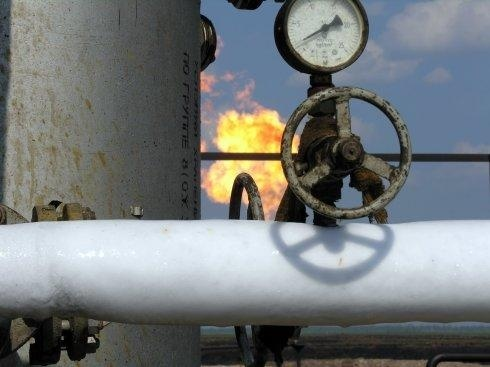fire: (201, 81, 290, 209)
